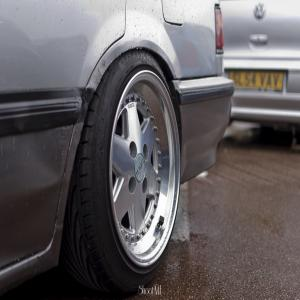Vehicle-registration-plate: (231, 71, 284, 92)
